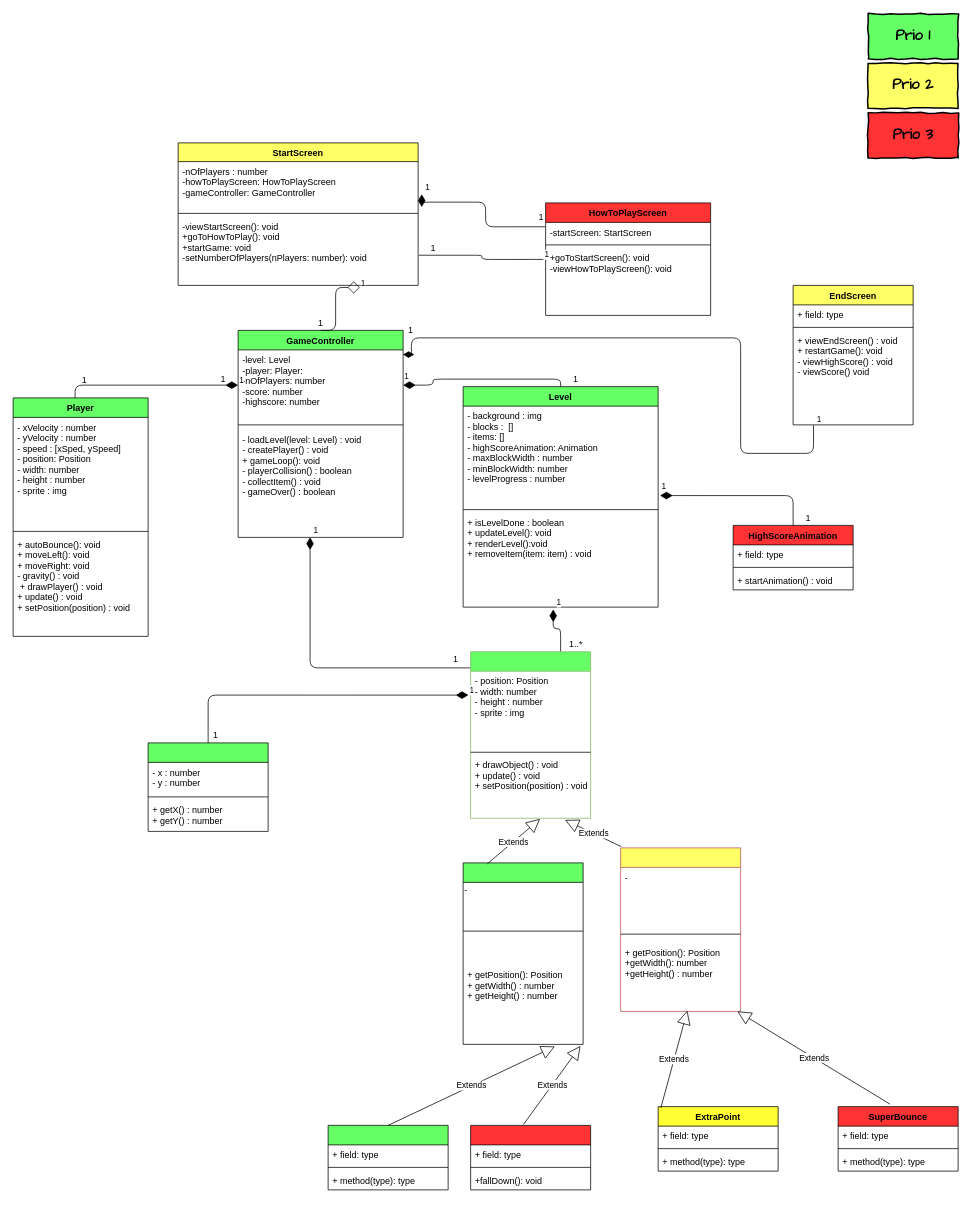
This 972x1205 diagram has some shape labels left out. Here are the shapes that lost their labels. From the top down, the box of each, then its label:
(470, 651, 591, 818): GameObject
(147, 742, 268, 831): Position
(620, 847, 741, 1011): Item
(462, 862, 583, 1044): Block
(327, 1125, 448, 1190): SolidBlock
(470, 1125, 591, 1190): FragileBlock
